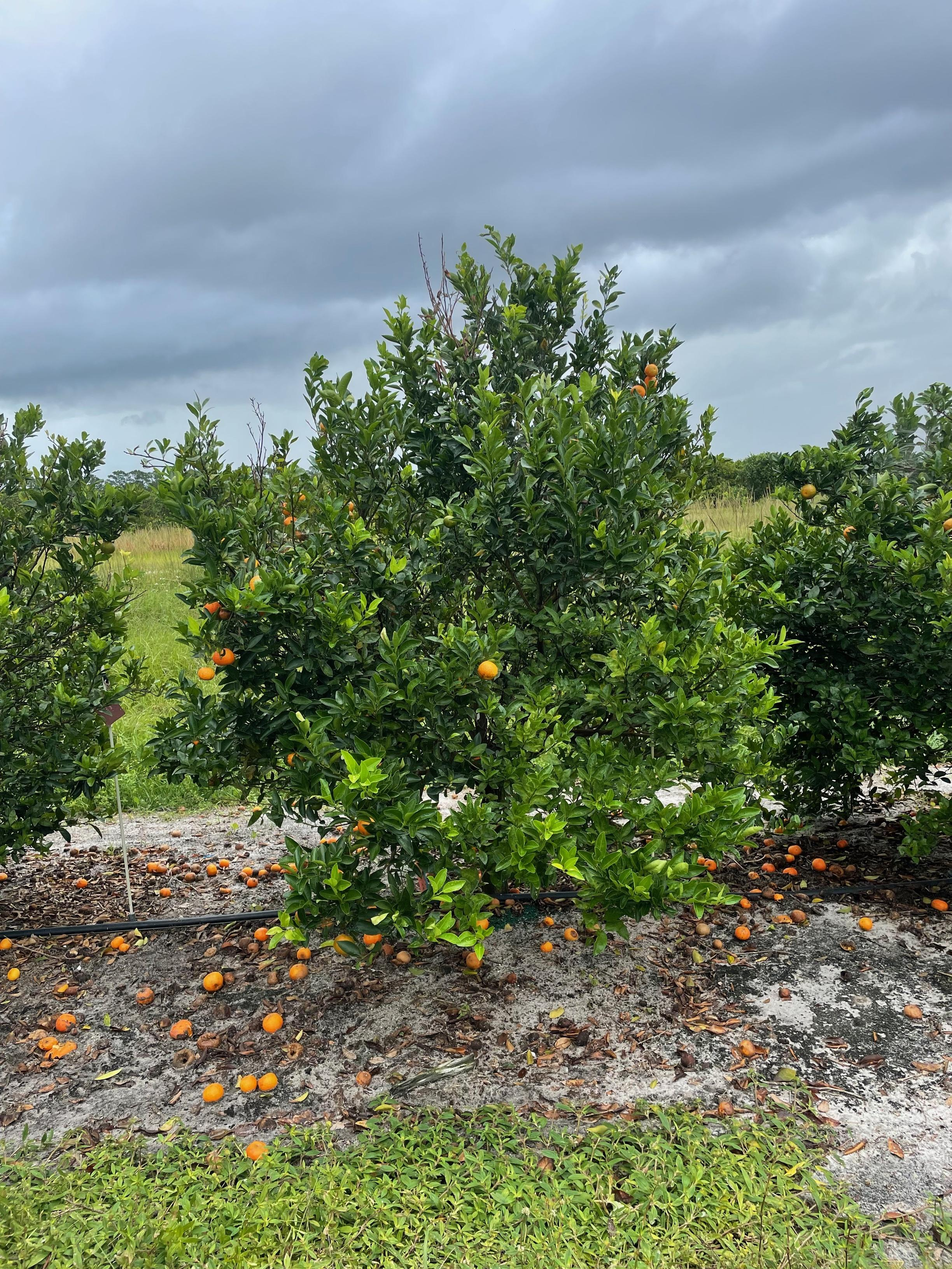fruit_on_ground: (332, 932, 358, 956), (211, 645, 236, 668), (476, 659, 498, 681), (356, 816, 378, 836), (201, 600, 223, 619), (286, 750, 306, 769), (247, 574, 267, 593), (241, 554, 262, 572), (196, 664, 215, 682), (843, 525, 860, 542), (800, 483, 817, 500), (215, 606, 233, 622), (643, 375, 660, 391), (630, 384, 647, 400), (442, 513, 458, 529), (643, 363, 660, 378), (282, 514, 298, 529), (351, 822, 365, 837), (318, 418, 332, 433), (942, 516, 952, 536), (294, 490, 308, 504), (345, 499, 359, 513), (280, 501, 294, 515), (190, 735, 205, 748)
fruit_on_tree: (245, 1138, 270, 1162), (260, 1011, 284, 1035), (197, 1030, 222, 1051), (202, 1081, 224, 1103), (202, 970, 224, 992), (170, 1018, 193, 1039), (54, 1012, 77, 1033), (256, 1070, 278, 1091), (237, 1072, 257, 1094), (353, 1068, 374, 1088), (134, 985, 155, 1005), (288, 961, 309, 981), (902, 1001, 924, 1020), (716, 1099, 736, 1119), (361, 930, 383, 948), (737, 1037, 756, 1056), (393, 948, 412, 966), (464, 952, 483, 970), (38, 1034, 58, 1051), (930, 895, 950, 912), (471, 1014, 491, 1030), (733, 924, 751, 941), (294, 944, 313, 960), (109, 934, 128, 950), (694, 921, 711, 938), (857, 915, 874, 932), (679, 1051, 697, 1067), (6, 965, 22, 982), (254, 925, 271, 941), (563, 926, 580, 942), (791, 908, 808, 923), (265, 970, 280, 986), (474, 915, 490, 930), (244, 940, 261, 954), (778, 985, 793, 1000), (222, 969, 237, 984), (381, 940, 396, 955), (703, 858, 718, 873), (781, 866, 799, 878), (145, 860, 160, 874), (540, 939, 554, 954), (0, 936, 14, 951), (811, 858, 826, 872), (738, 896, 752, 910), (711, 936, 725, 950), (504, 971, 519, 984), (74, 876, 89, 889), (828, 864, 844, 876), (760, 887, 776, 899), (504, 990, 518, 1003), (844, 860, 858, 873), (836, 836, 850, 849), (788, 844, 802, 857), (873, 813, 888, 825), (761, 862, 776, 874), (542, 914, 555, 927), (205, 863, 218, 876), (746, 869, 760, 881), (158, 886, 172, 898), (245, 876, 259, 888), (0, 869, 11, 884), (489, 896, 502, 908), (326, 835, 339, 847), (773, 891, 786, 903), (218, 856, 231, 868), (156, 863, 169, 875), (118, 942, 131, 954), (761, 837, 775, 848), (219, 884, 232, 895), (836, 816, 849, 827), (773, 823, 786, 834), (189, 863, 202, 874), (783, 852, 796, 863), (241, 865, 254, 876), (742, 843, 754, 854), (68, 846, 80, 857), (184, 871, 197, 881), (270, 863, 282, 873), (236, 871, 248, 881), (809, 834, 821, 844), (159, 843, 171, 852), (257, 868, 269, 877), (87, 844, 98, 853), (171, 828, 182, 837), (319, 837, 328, 845), (796, 821, 805, 829)
